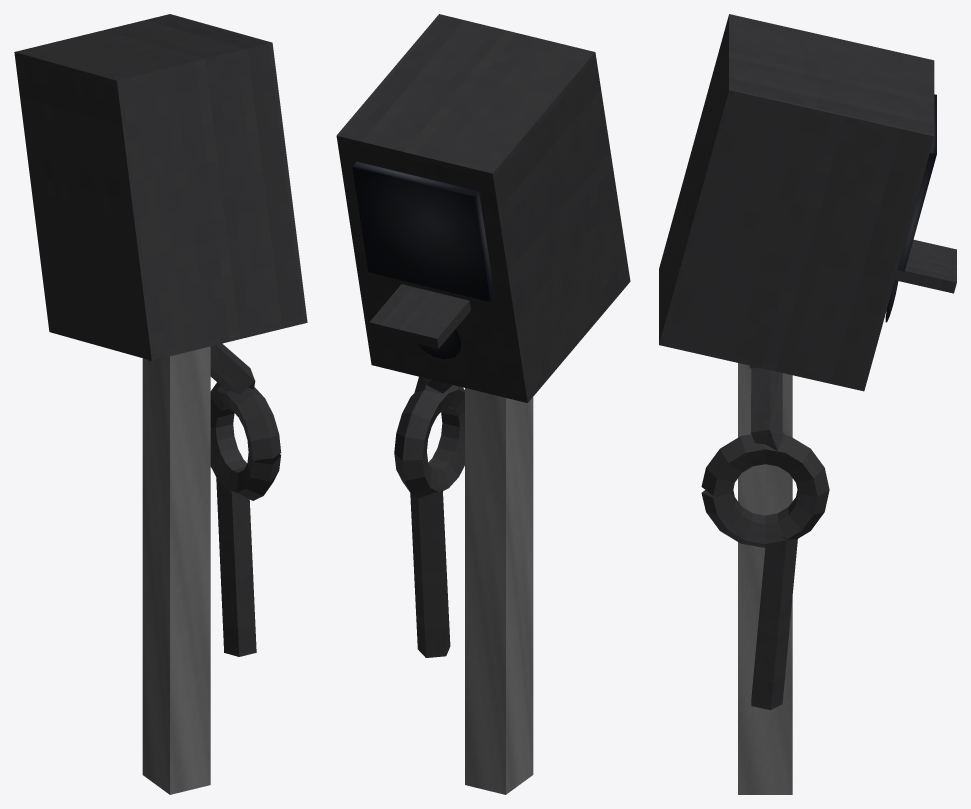
Rendered from trafiradar.obj.
The picture shows the model from 3 angles, left to right: view 1: azimuth 30°, elevation 25°; view 2: azimuth 150°, elevation 25°; view 3: azimuth 270°, elevation 25°; orthographic projection.
Visible parts, largest first — view 1: miovision360; view 2: miovision360; view 3: miovision360.
Part boxes in pixels (x1,y1,x2,y2): miovision360: (14, 14, 307, 794); miovision360: (336, 14, 630, 794); miovision360: (659, 14, 956, 794).
Size of the model in its own units: 0.2309 by 1.03 by 0.3803.
